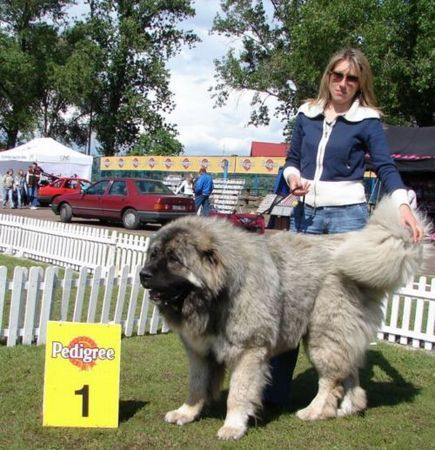cau_ovcharka: (138, 194, 435, 441)
human_face: (328, 59, 360, 103)
person: (281, 47, 422, 242), (193, 167, 213, 216), (26, 161, 42, 206), (14, 169, 26, 207), (2, 169, 13, 207)
